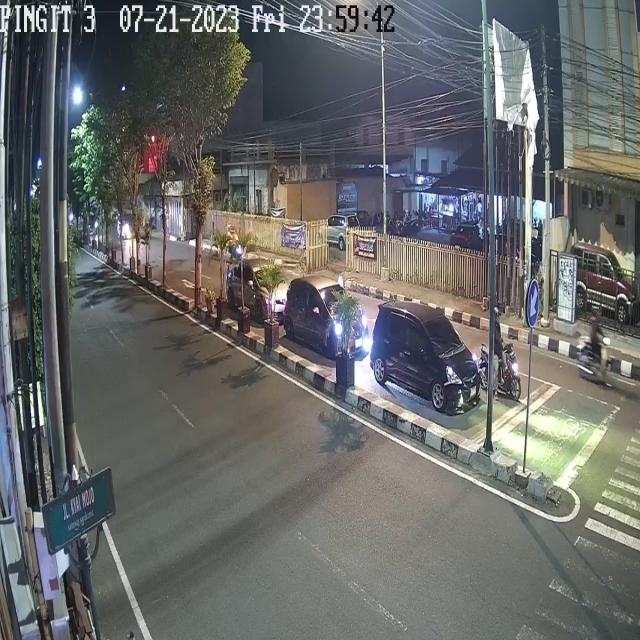car: (370, 305, 482, 417), (283, 274, 368, 364), (226, 258, 289, 324)
motorcycle: (479, 306, 522, 399), (579, 302, 613, 388), (226, 222, 243, 267)
